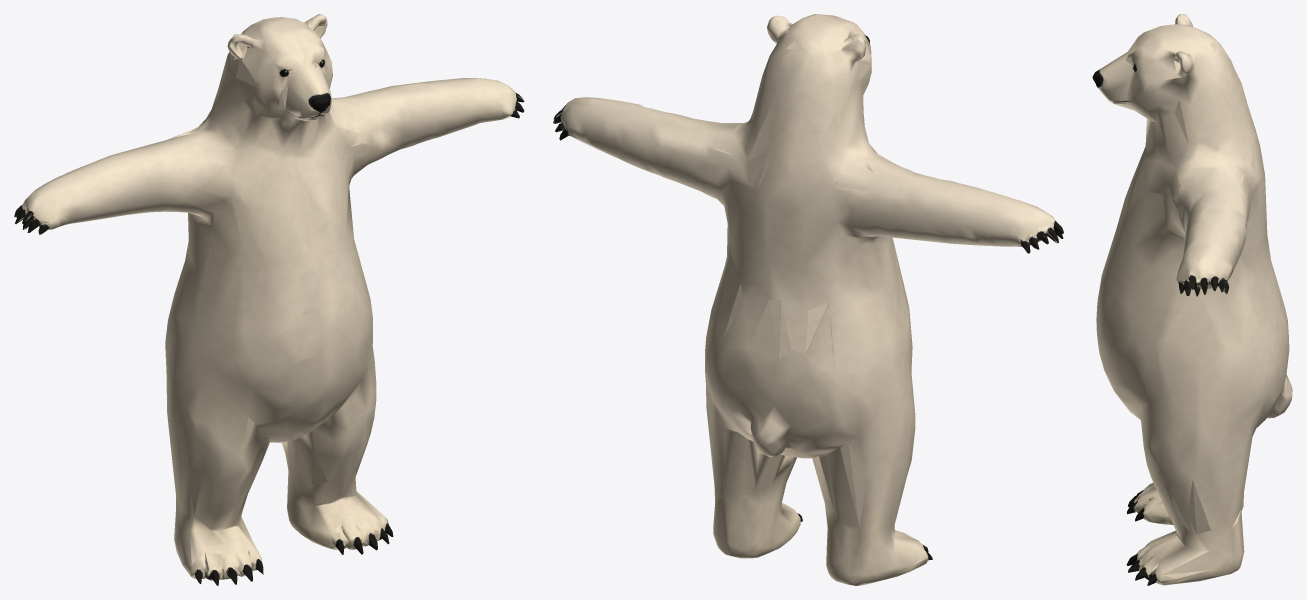
The model's file is polar-bear-arms.glb.
The picture shows the model from 3 angles, left to right: view 1: azimuth 30°, elevation 25°; view 2: azimuth 150°, elevation 25°; view 3: azimuth 270°, elevation 25°; orthographic projection. The views are drawn at different scales.
Parts seen in each view (by area): view 1: polar-bear; view 2: polar-bear; view 3: polar-bear.
Part boxes in pixels (bbox=[...]): polar-bear: bbox=[14, 14, 524, 585]; polar-bear: bbox=[553, 14, 1063, 585]; polar-bear: bbox=[1092, 14, 1292, 585].
Bounding box in the file's own units: 1.9 × 1.9 × 0.6741.
Materials: 1 (1 with a texture image).
